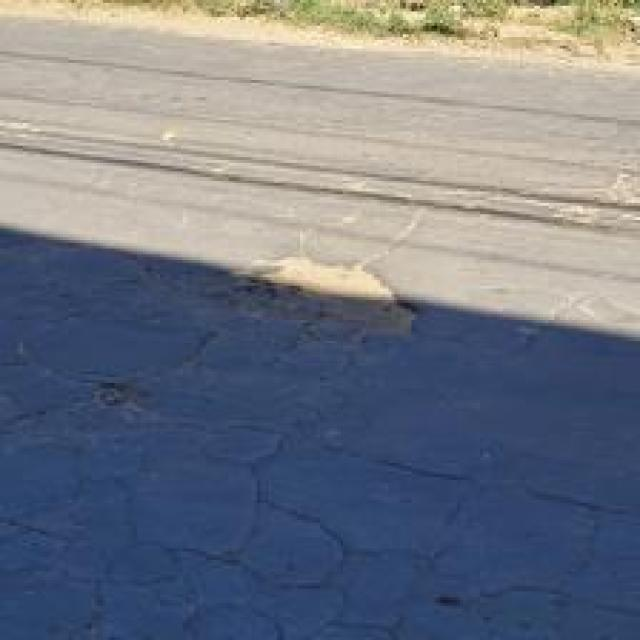BACHE: (241, 257, 413, 332)
PIEL DE COCODRILO: (0, 229, 639, 639), (300, 167, 639, 265)
